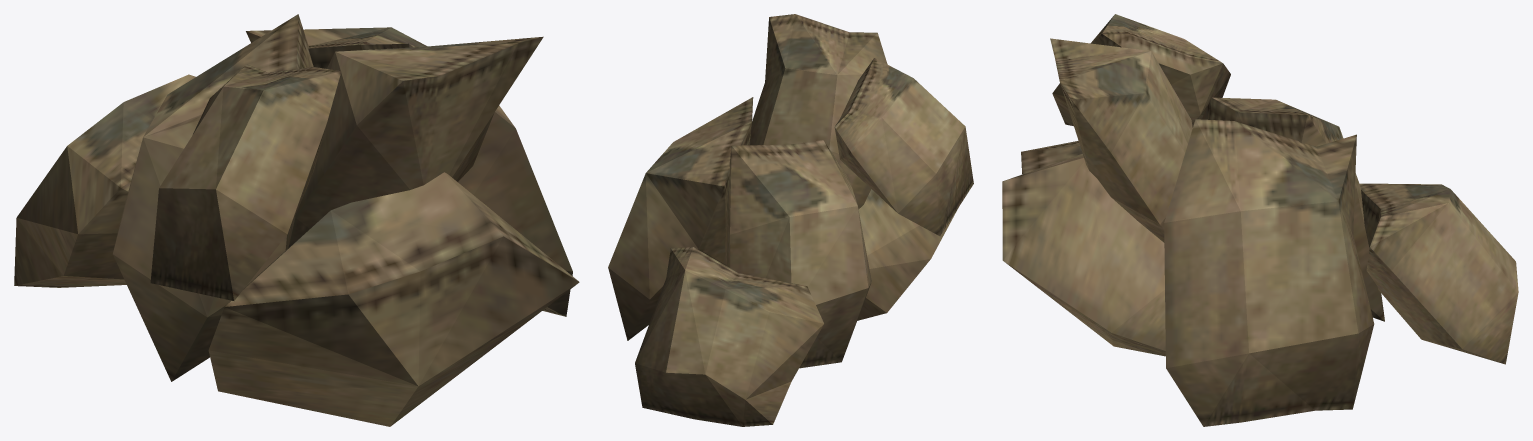
3 renders of one model, left to right at view 1: azimuth 30°, elevation 25°; view 2: azimuth 150°, elevation 25°; view 3: azimuth 270°, elevation 25°, orthographic. The views are drawn at different scales.
Visible parts, largest first — view 1: qingmo_obj_428 [10484474]; view 2: qingmo_obj_428 [10484474]; view 3: qingmo_obj_428 [10484474].
Boxes of the visible parts, bbox=[...] form: qingmo_obj_428 [10484474]: bbox=[14, 14, 579, 426]; qingmo_obj_428 [10484474]: bbox=[608, 14, 973, 426]; qingmo_obj_428 [10484474]: bbox=[1002, 14, 1518, 426].
Size of the model in its own units: 8.4 by 11.07 by 7.31.
Materials: 1 (1 with a texture image).
